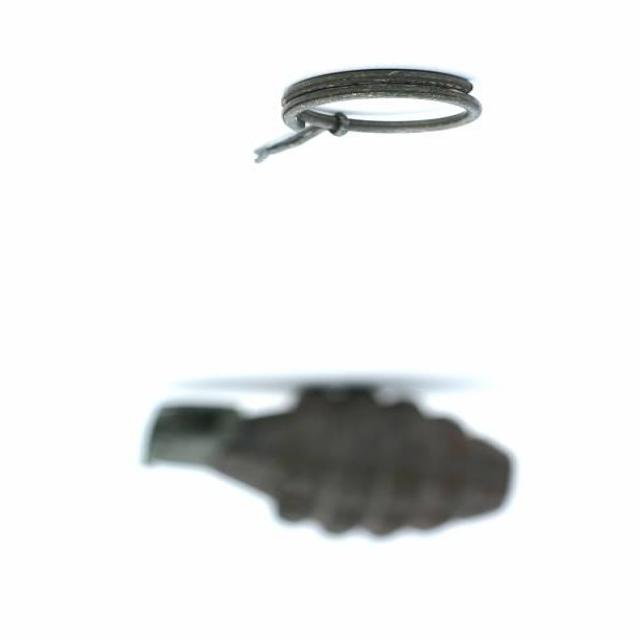grenade: (135, 378, 521, 541)
